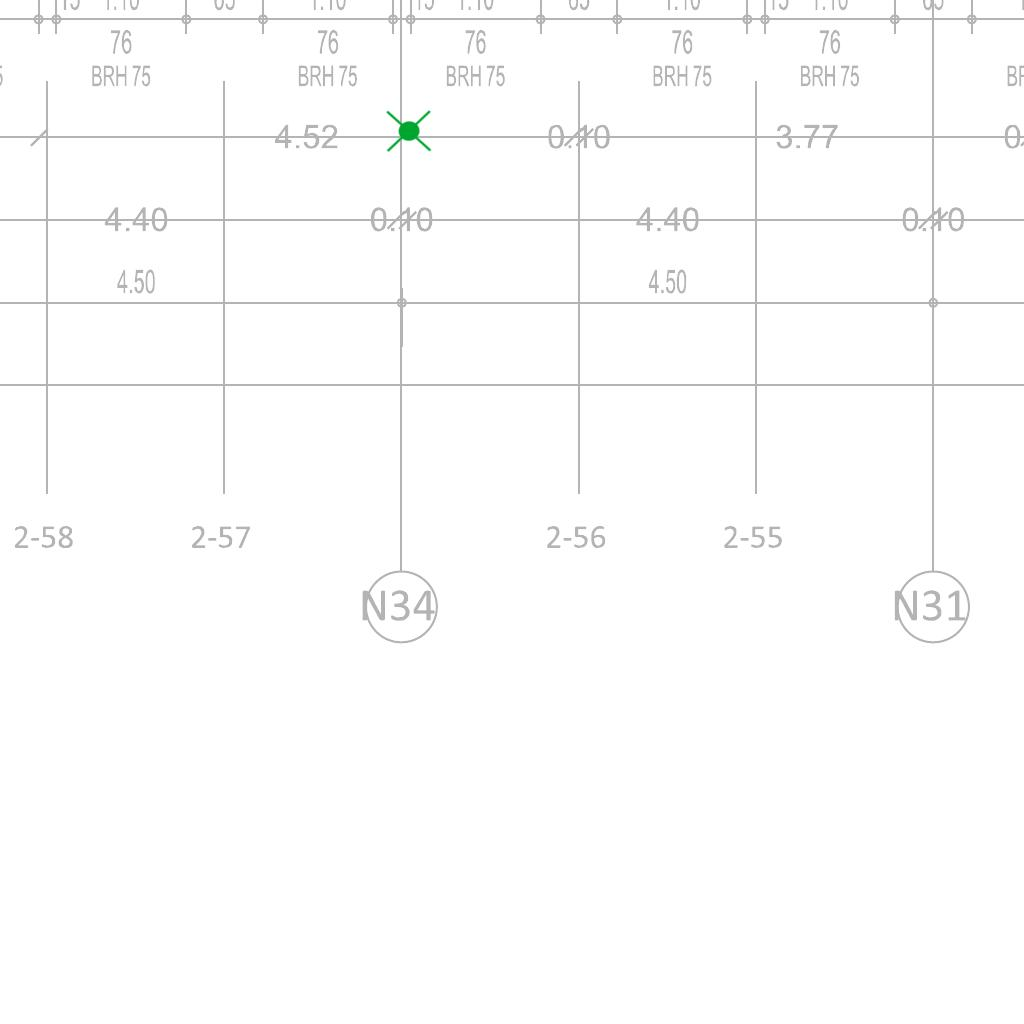Notlichtbaustein_in_Allgemeinbeleuchtug_engebaut_Einbau_(1UG_und_2UG_Aufbauvaria: (384, 105, 434, 156)
